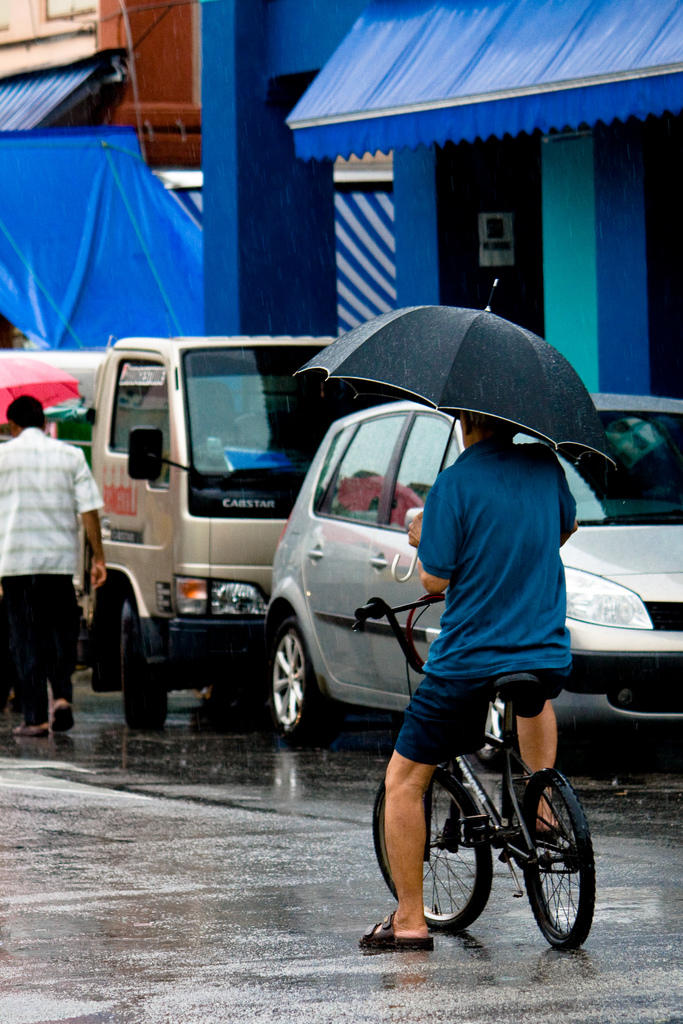Bike_away: (349, 575, 595, 955)
